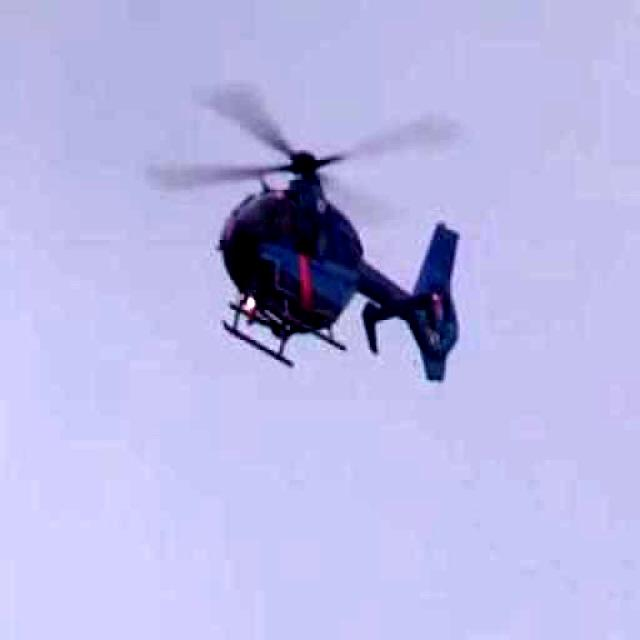drone: (122, 28, 521, 410)
